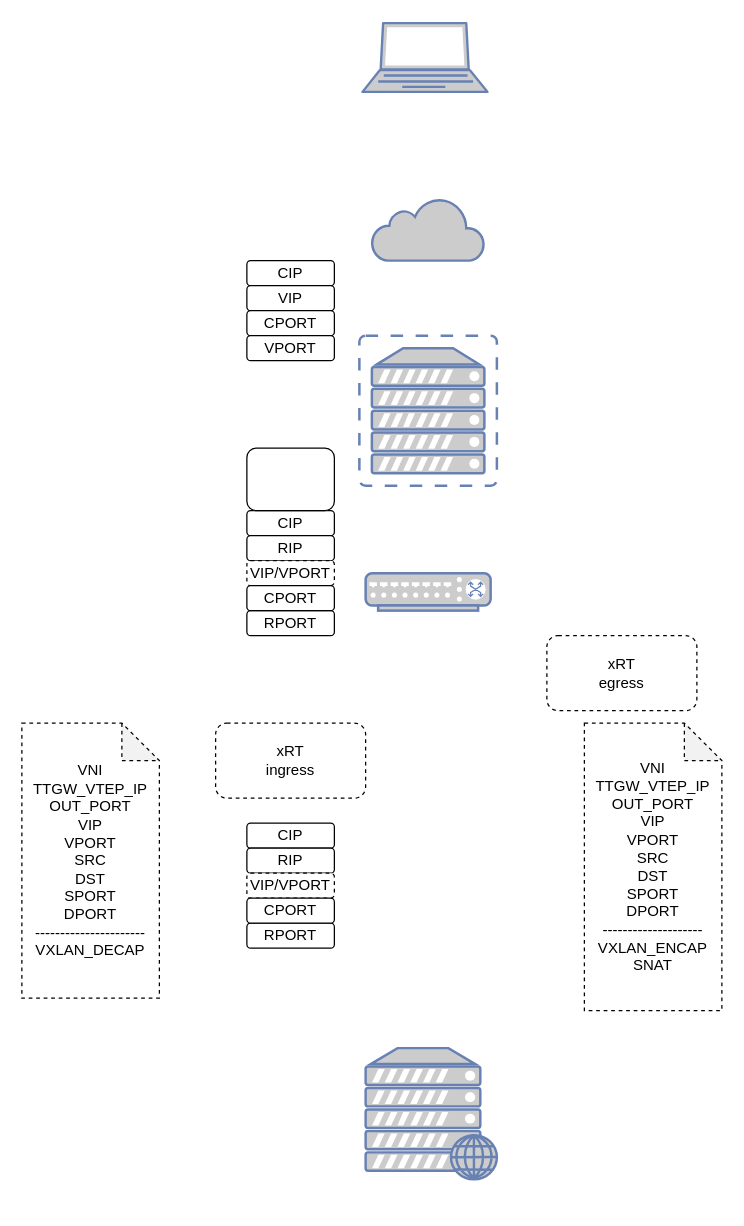
Some shapes in this 744 by 1226 pixel diagram are drawn without their labels. Here are the shapes that lost their labels. From the top down, the centre of each, then its label:
At point 428,410: "TTGW".
At point 290,479: "VXLAN header".
At point 431,1113: "xRS".
